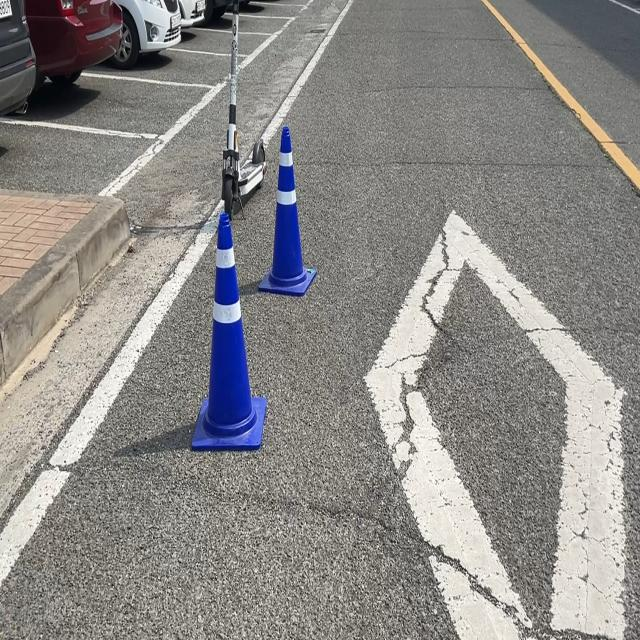b_rub: (192, 212, 267, 450), (259, 124, 317, 295)
